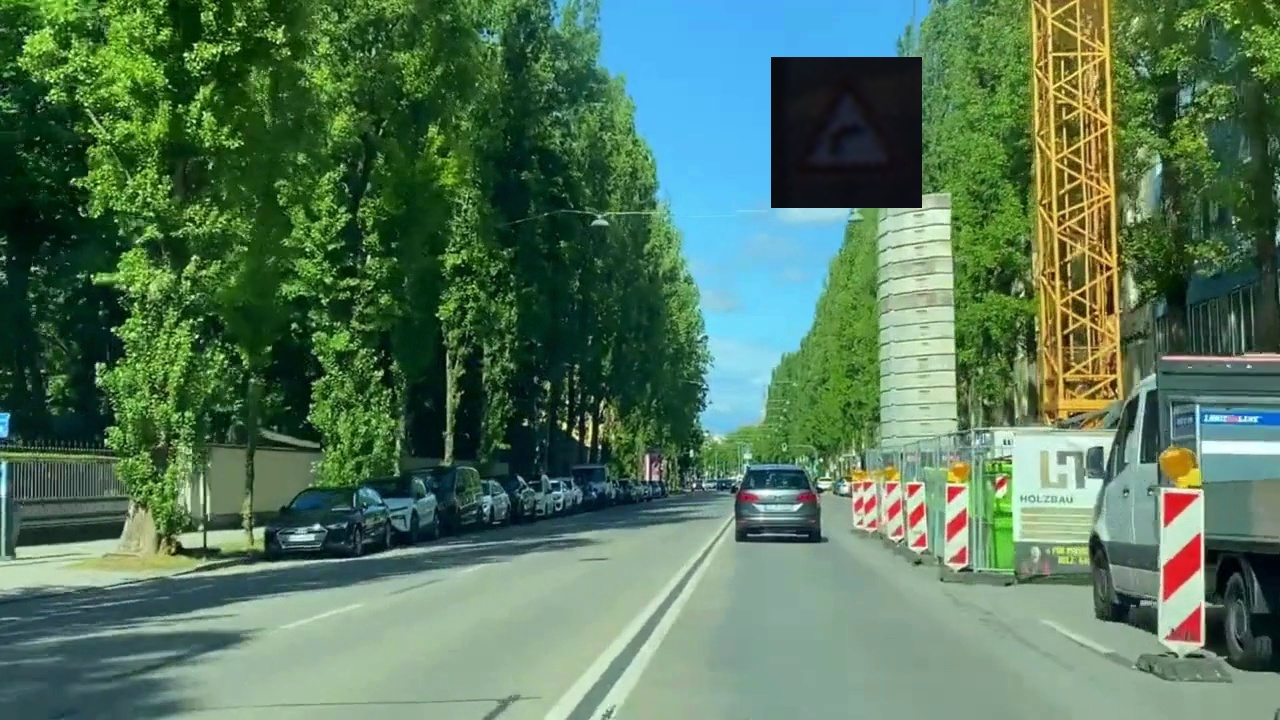Curve right: (771, 57, 922, 208)
